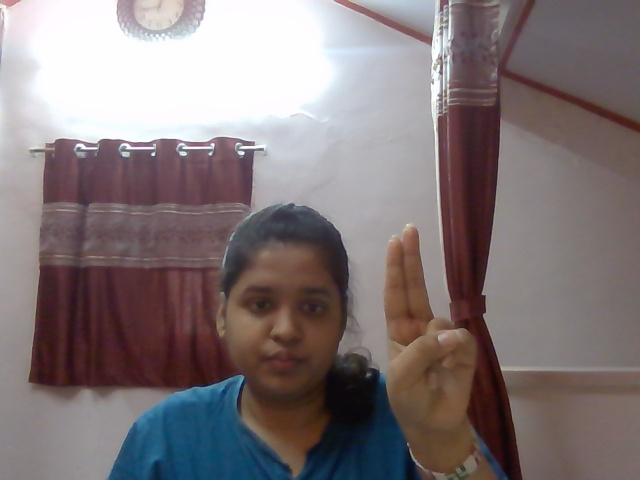u: (370, 217, 496, 441)
